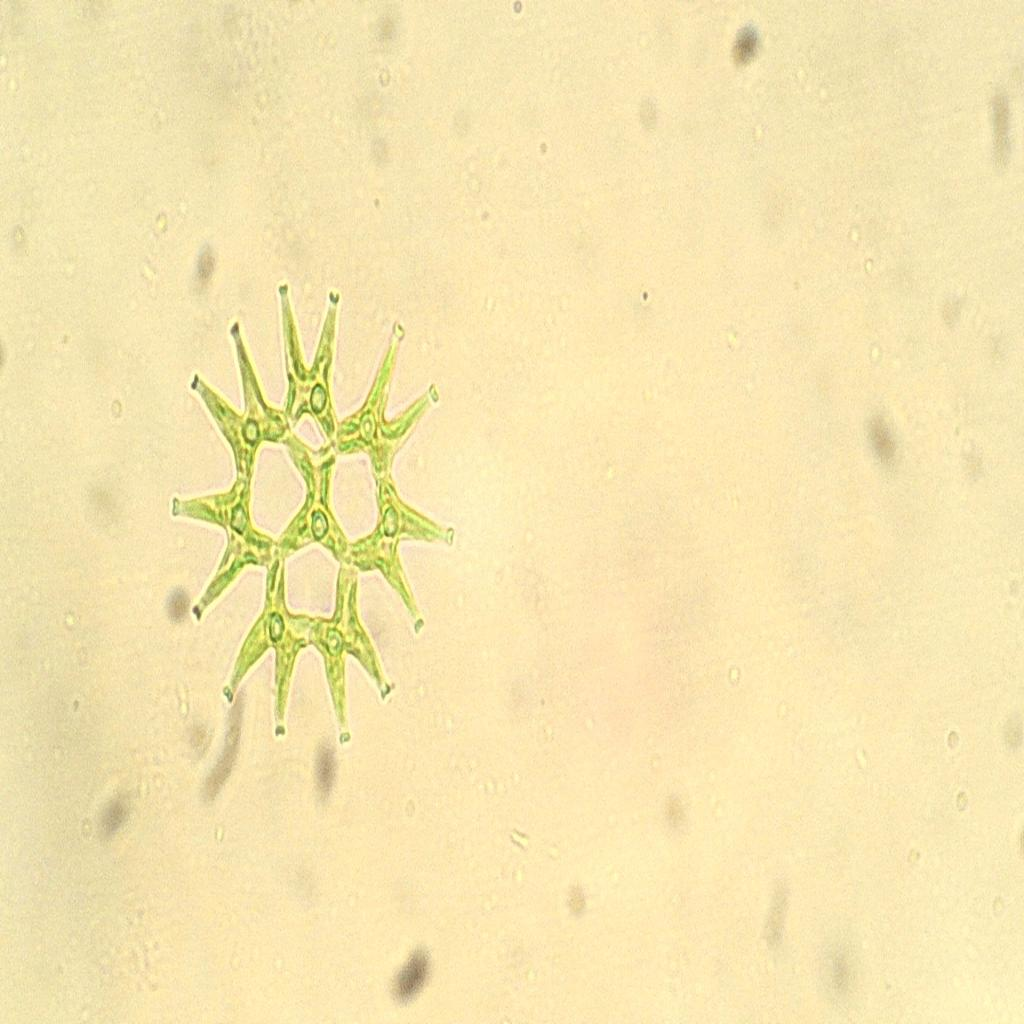Pediastrum_75T: (159, 241, 467, 777)
